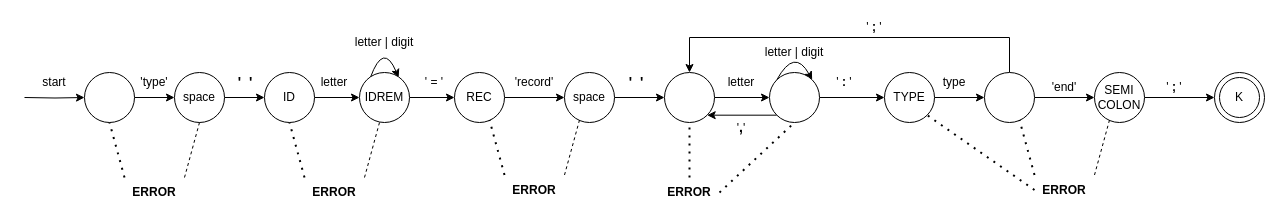
Some shapes in this 1282 by 224 pixel diagram are drawn without their labels. Each missing label, with the box of its shape:
END: (984, 72, 1034, 122)
FIELD: (664, 72, 714, 122)
FIELD REM: (768, 72, 820, 122)
Opr: (84, 72, 134, 122)
